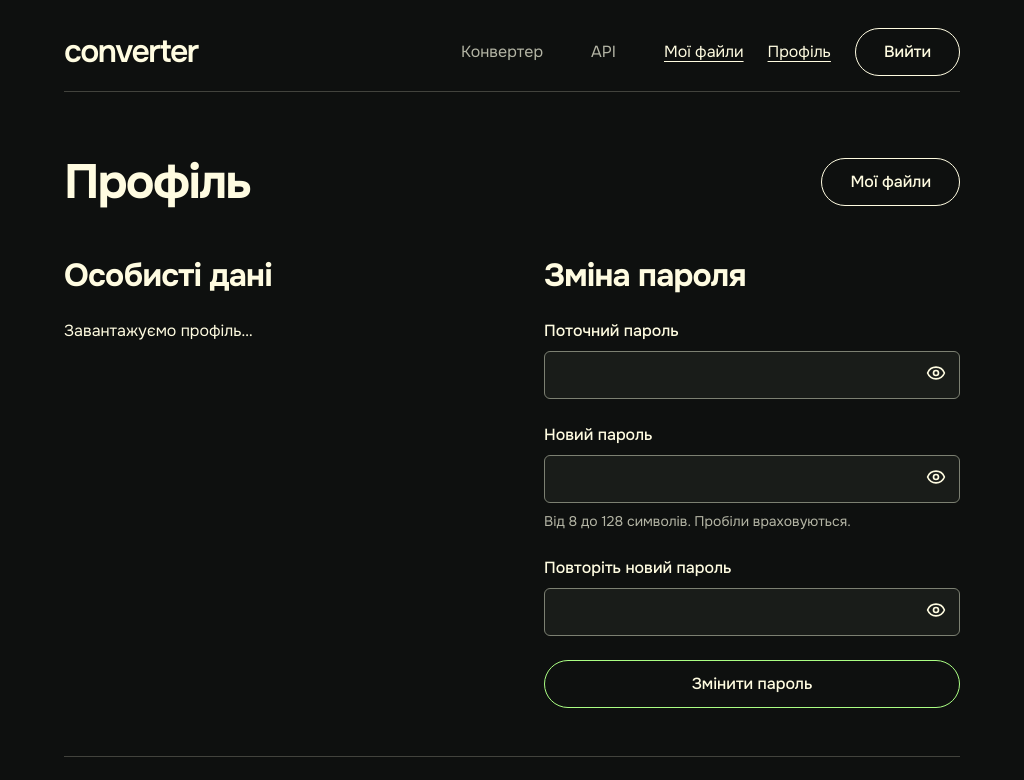
Test: checks new-password confirmation and preserves confirmed success through session read failure
Type "synthetic-current" into the password field labelled "Поточний пароль" at (752, 375), box left=544, top=351, right=960, bottom=399
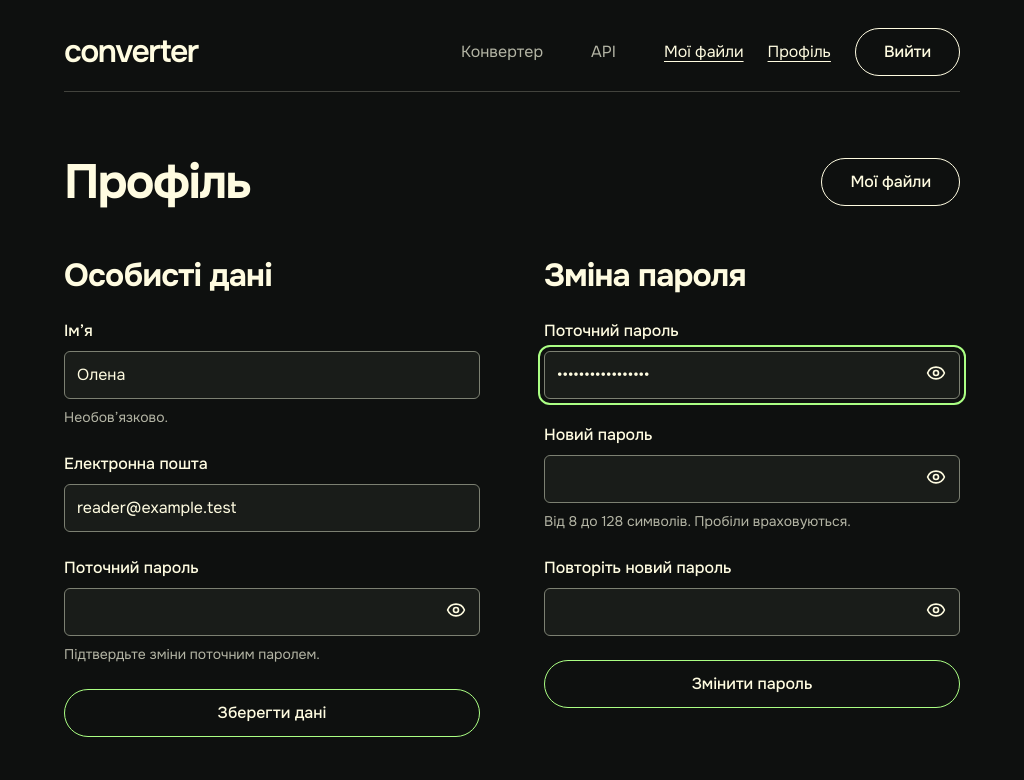
Type "synthetic-new" into the password field labelled "Новий пароль" at (752, 479), box left=544, top=455, right=960, bottom=503
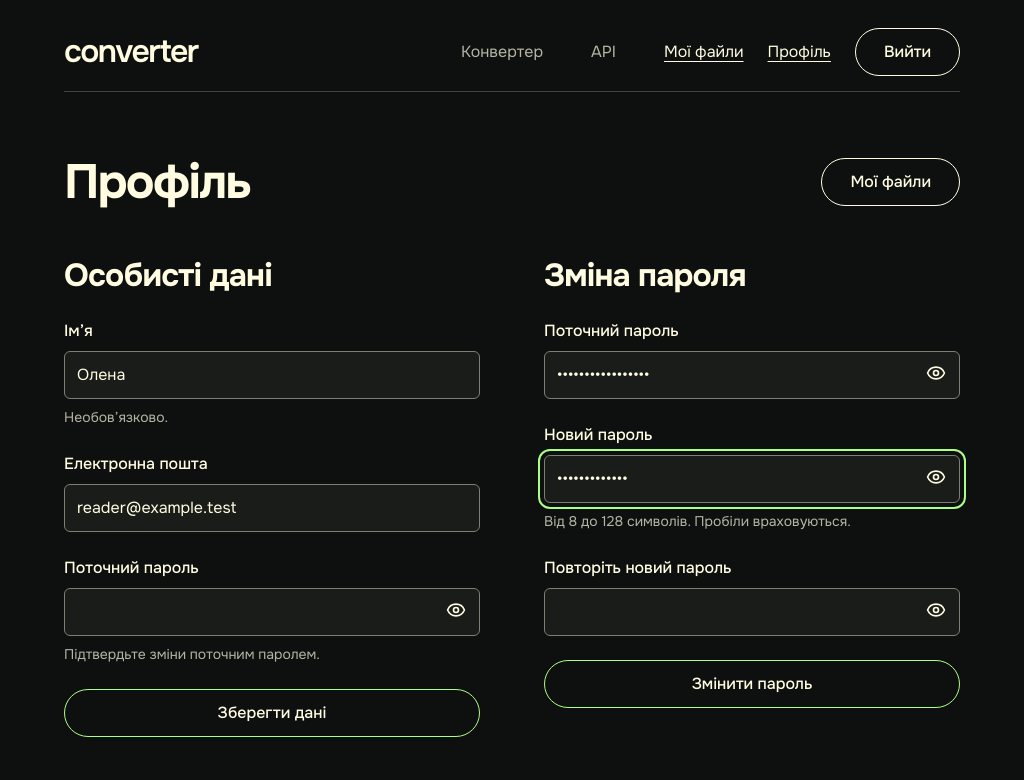
Type "different" into the password field labelled "Повторіть новий пароль" at (752, 612), box left=544, top=588, right=960, bottom=636
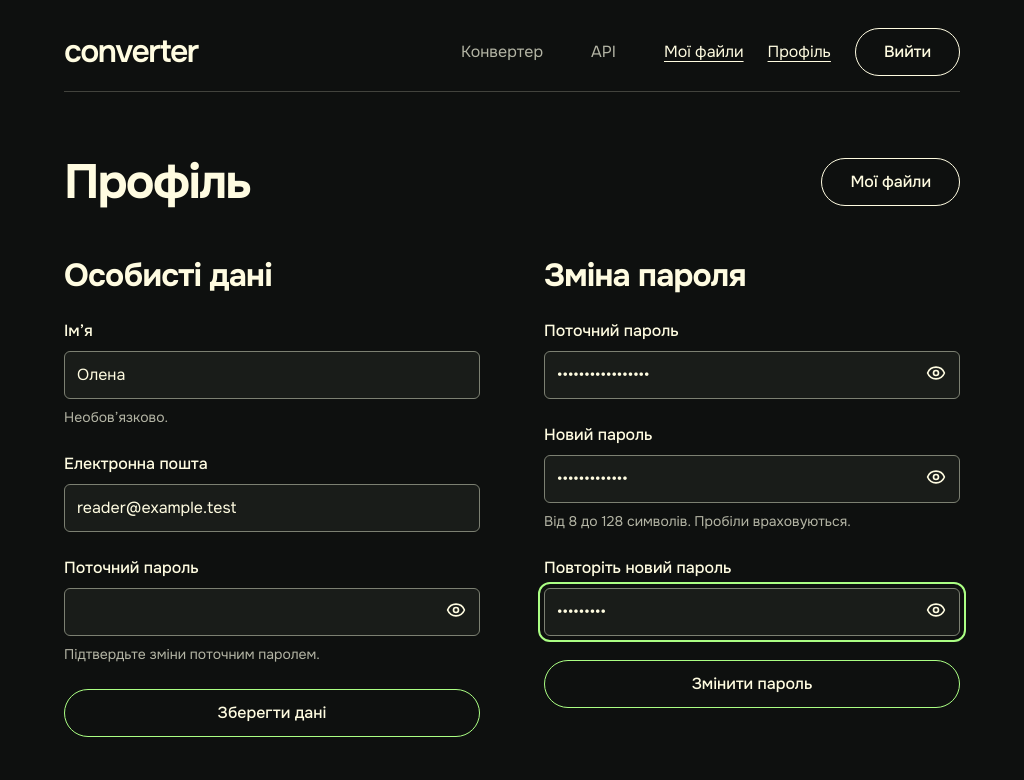
Click the button "Змінити пароль" at (752, 684), box left=544, top=660, right=960, bottom=708
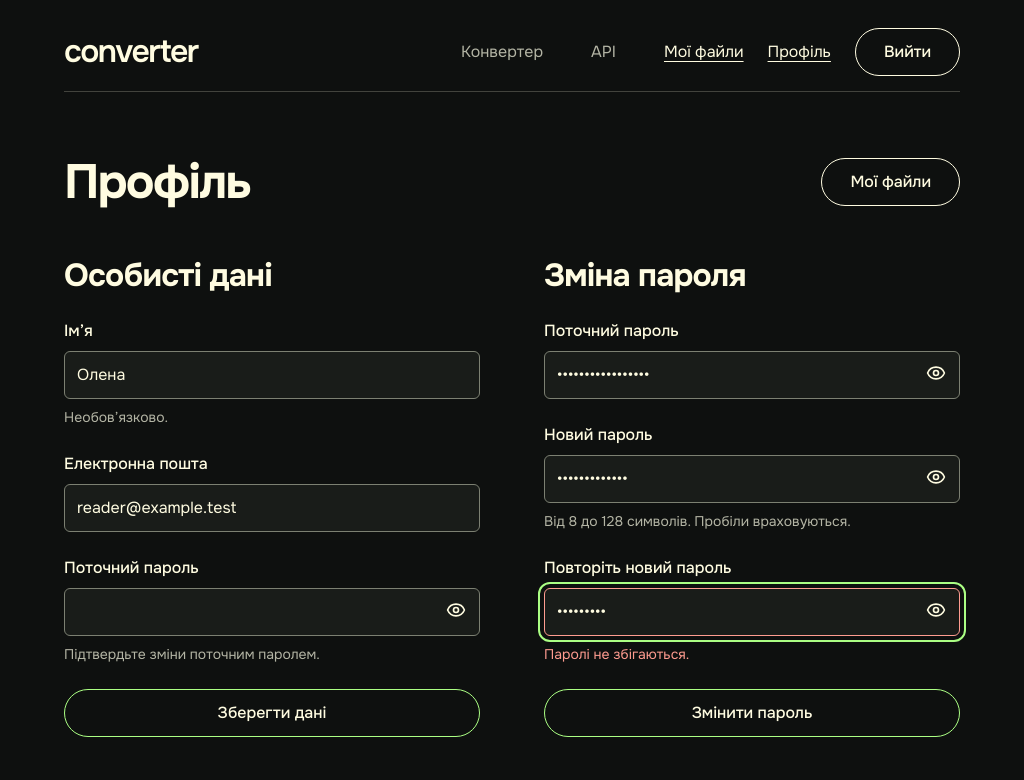
Expected: the text "Паролі не збігаються." is shown, left=544, top=645, right=689, bottom=663
Type "synthetic-new" into the password field labelled "Повторіть новий пароль" at (752, 612), box left=544, top=588, right=960, bottom=636
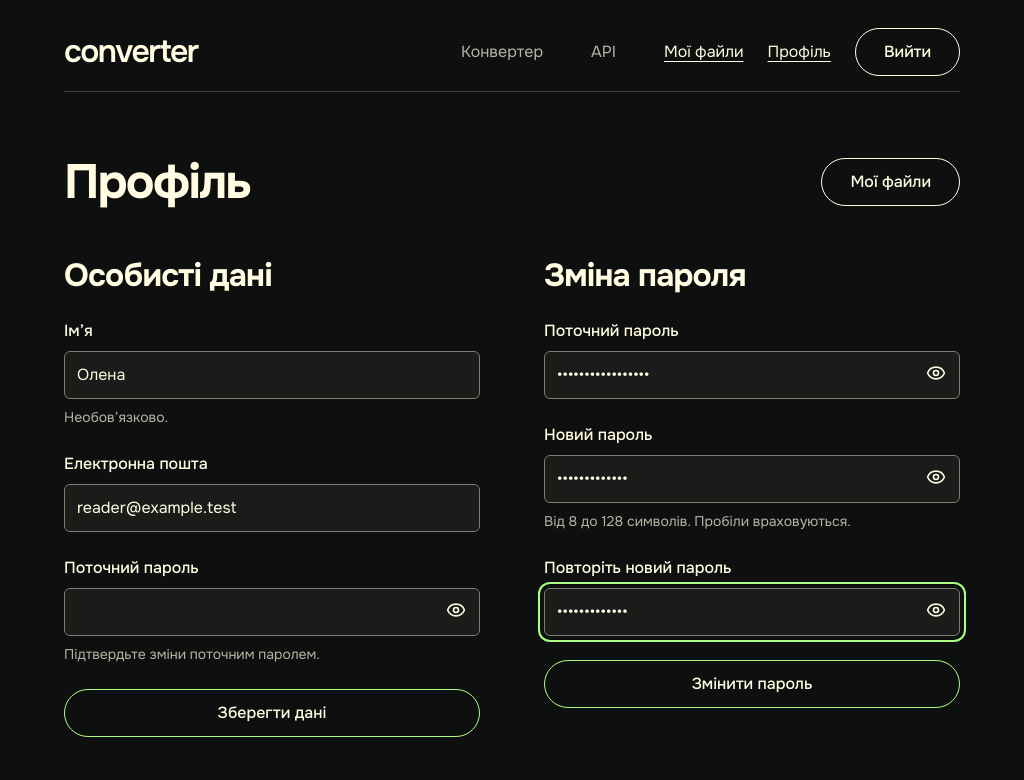
Click the button "Змінити пароль" at (752, 684), box left=544, top=660, right=960, bottom=708
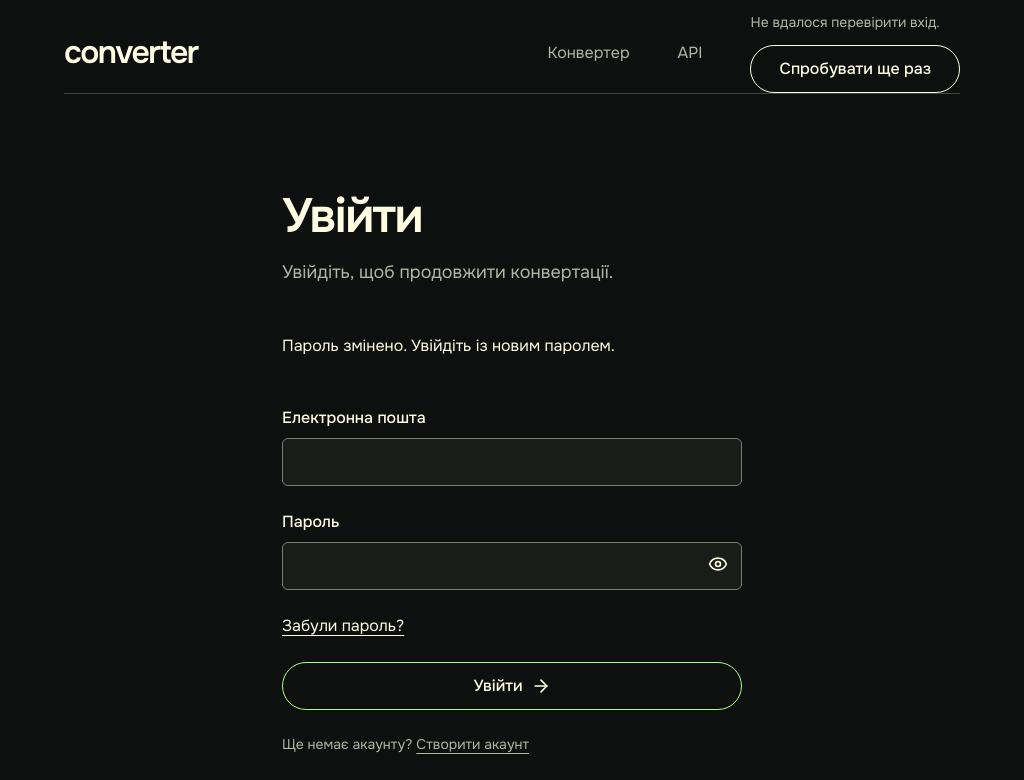
Expected: the text "Пароль змінено. Увійдіть із новим паролем." is shown, left=282, top=335, right=615, bottom=356
